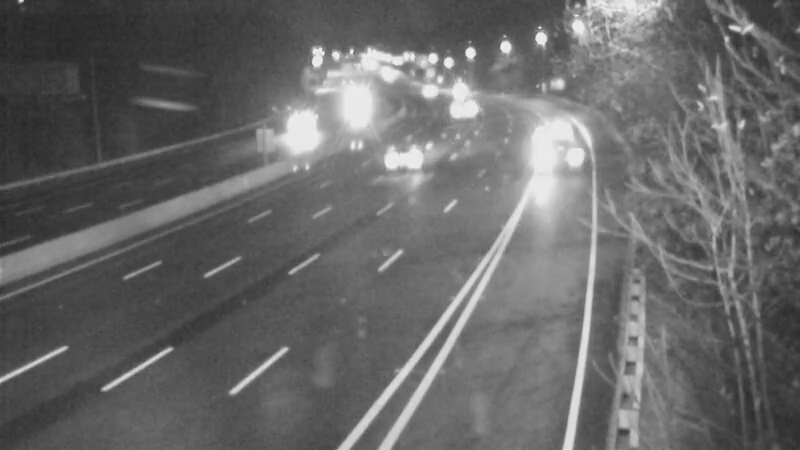vehicle: (358, 122, 438, 202), (434, 67, 484, 117), (398, 63, 448, 113), (438, 86, 488, 136), (533, 113, 583, 163), (269, 102, 319, 152), (332, 80, 382, 130)
